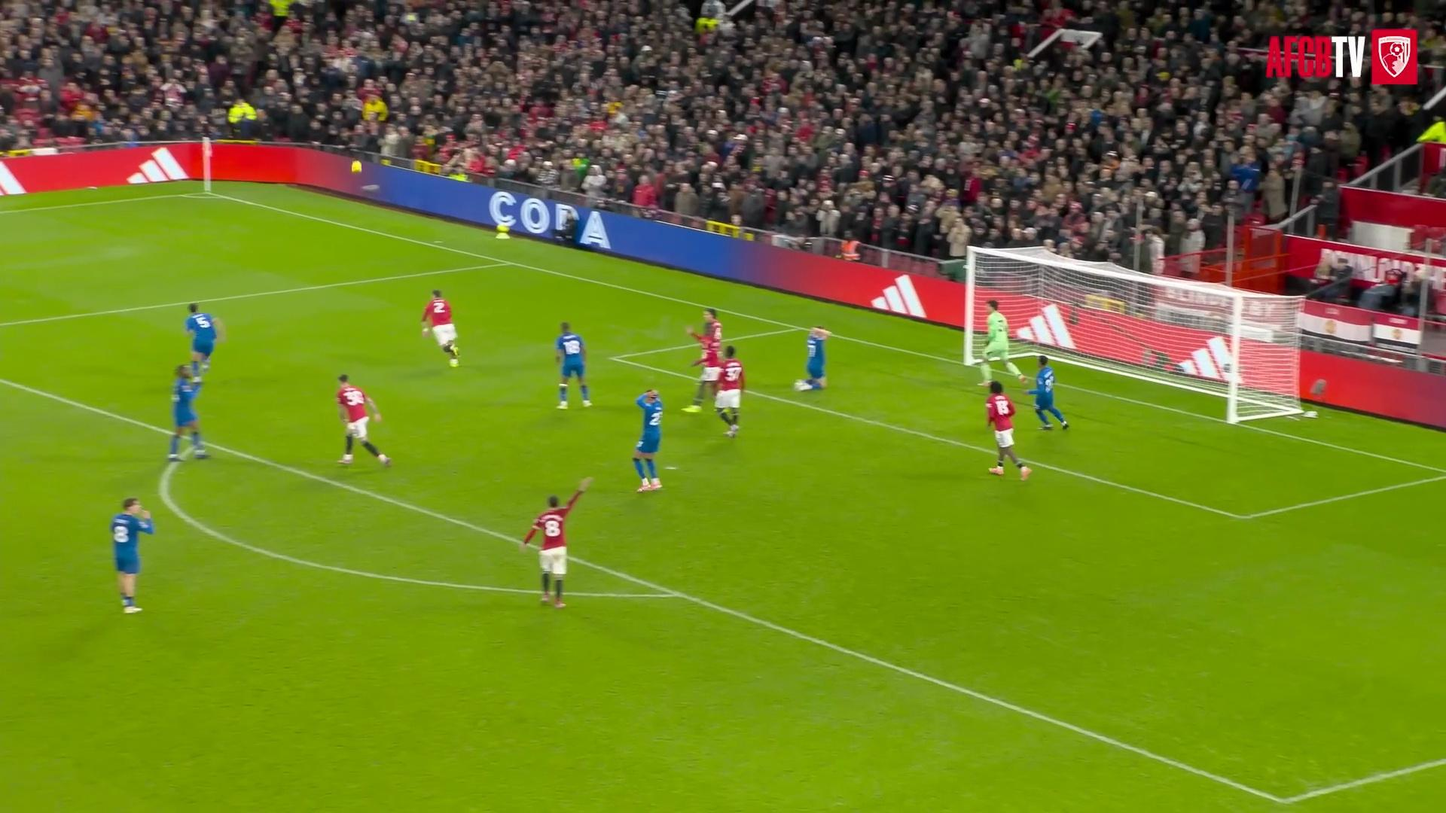football: (349, 162, 369, 177)
player: (520, 478, 591, 607), (110, 498, 154, 613), (337, 375, 390, 465), (986, 382, 1030, 479), (980, 300, 1027, 385), (168, 365, 206, 461), (683, 321, 721, 413), (1027, 355, 1069, 429), (185, 303, 224, 382), (633, 390, 663, 492), (556, 323, 590, 409), (422, 290, 459, 367), (715, 346, 744, 437), (794, 326, 830, 391), (703, 308, 722, 345)
